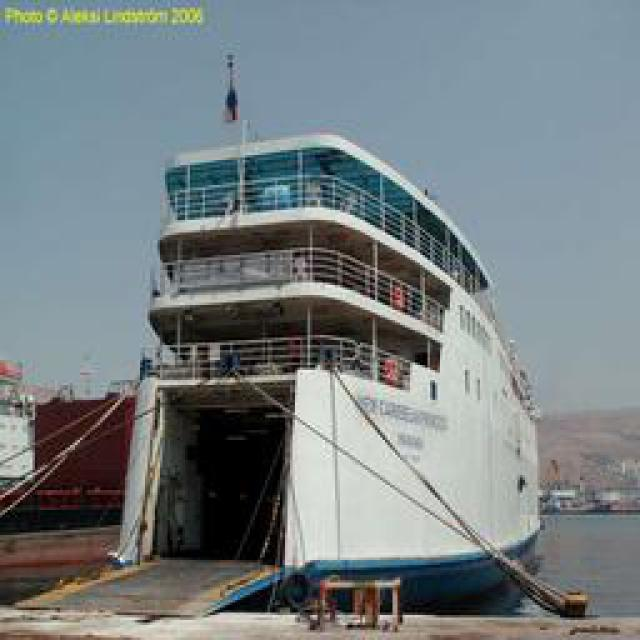Ship: (131, 120, 554, 610)
